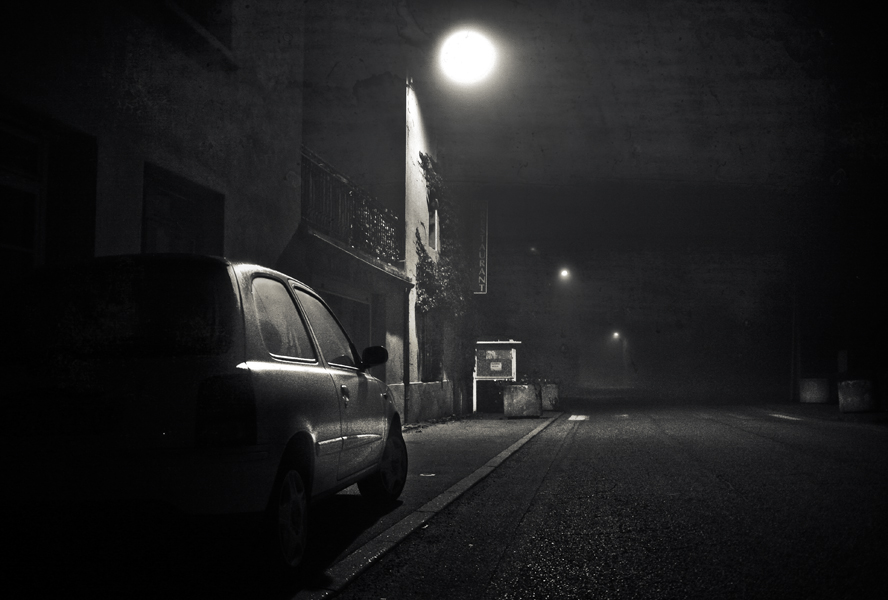car: (9, 244, 419, 586)
